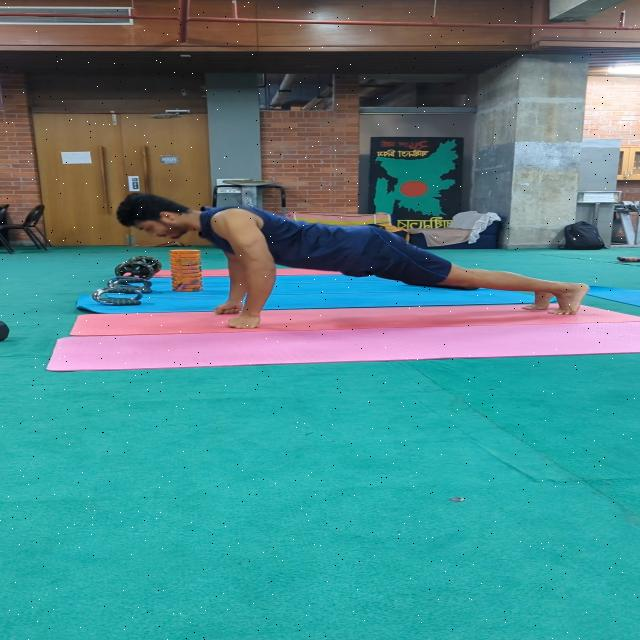Normal_PushUps: (110, 185, 590, 333)
